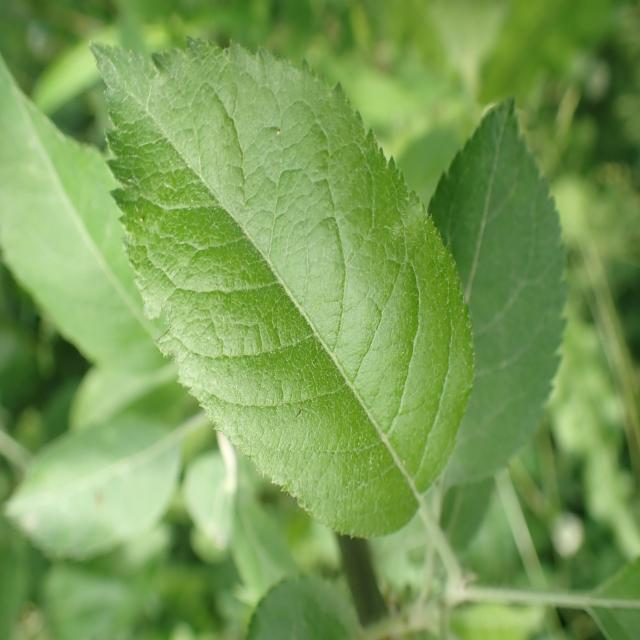healthy: (88, 35, 474, 540), (426, 94, 570, 488)
